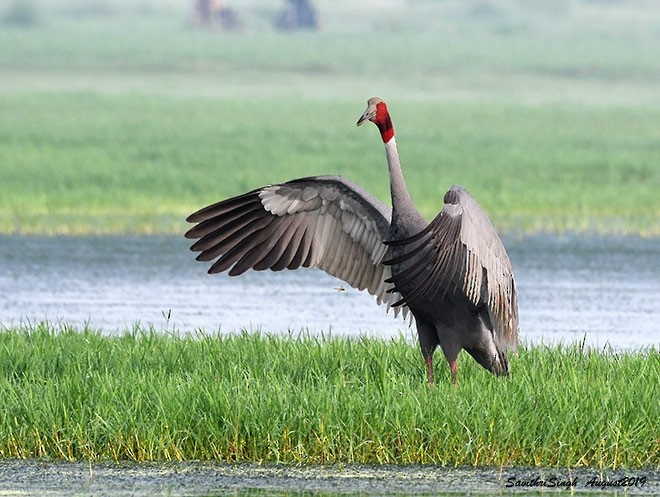crane: (182, 87, 546, 397)
